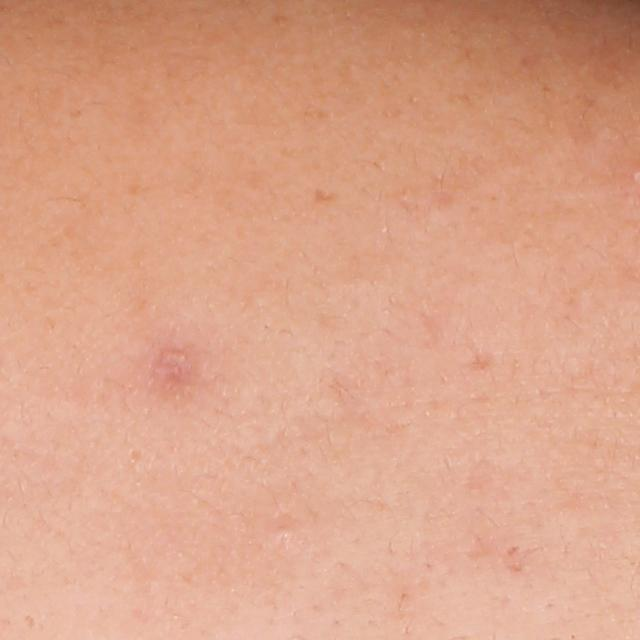comedo: (275, 518, 304, 543)
